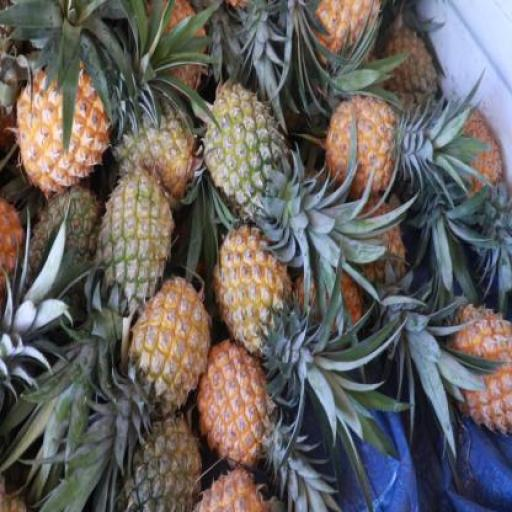------------------------------: (203, 82, 281, 210), (141, 272, 215, 404), (106, 168, 176, 302), (203, 332, 275, 458), (119, 103, 196, 191), (202, 455, 284, 512)
Pineapple - v8 v1: (24, 62, 110, 187), (214, 222, 288, 340), (327, 95, 398, 197)
